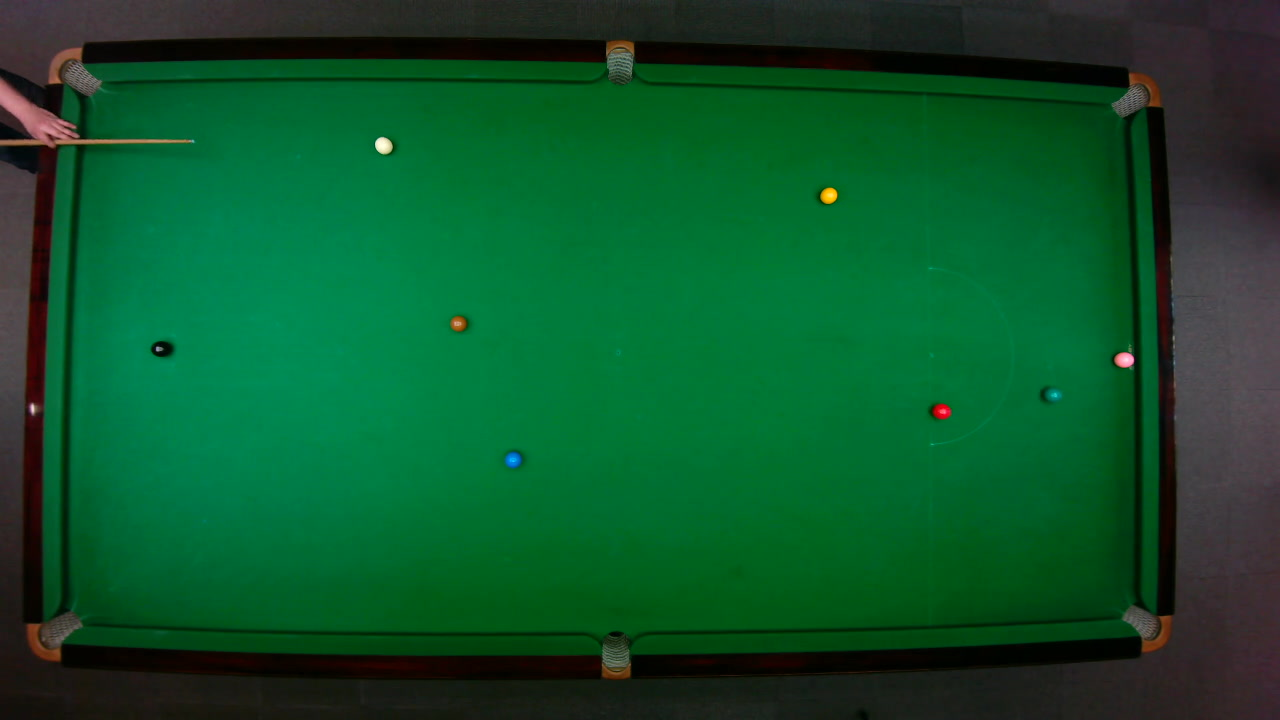bag: (24, 609, 84, 661), (46, 46, 102, 96), (1119, 603, 1172, 652), (1108, 71, 1161, 118), (600, 629, 630, 680), (605, 38, 633, 85)
black: (149, 339, 171, 357)
blue: (503, 450, 523, 468)
brown: (448, 314, 467, 331)
cue: (0, 134, 196, 148)
green: (1041, 385, 1062, 402)
pink: (1112, 350, 1135, 368)
red: (930, 402, 952, 419)
white: (373, 135, 393, 155)
yellow: (818, 185, 838, 204)
zone: (927, 265, 1013, 445)
